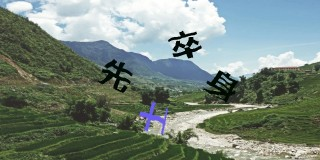先: (98, 58, 133, 93)
卒: (169, 28, 202, 60)
士: (139, 100, 170, 135)
身: (202, 70, 241, 105)
